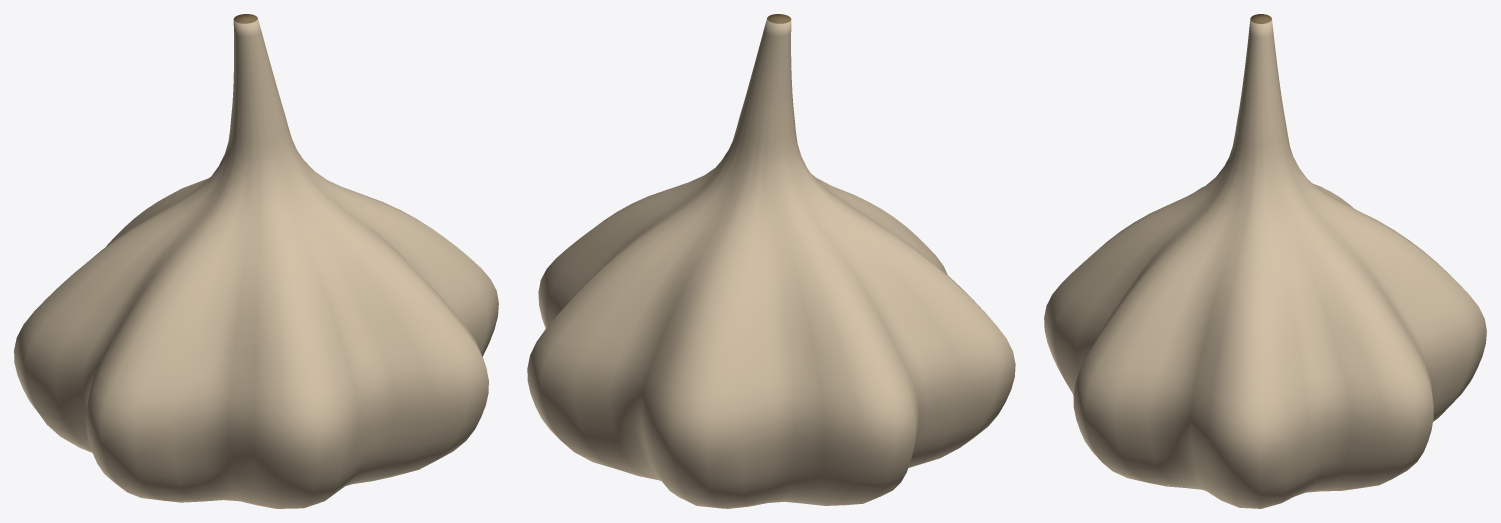
Rendered from A-NEW-20261027-GARLIC-001_LOD2_R1.fbx.
3 renders of one model, left to right at view 1: azimuth 30°, elevation 25°; view 2: azimuth 150°, elevation 25°; view 3: azimuth 270°, elevation 25°, orthographic. The views are drawn at different scales.
Visible parts, largest first — view 1: continuous original garlic clove lobes and dry neck; view 2: continuous original garlic clove lobes and dry neck; view 3: continuous original garlic clove lobes and dry neck.
Part boxes in pixels (x1,y1,x2,y2): continuous original garlic clove lobes and dry neck: (14,14,498,508); continuous original garlic clove lobes and dry neck: (527,14,1015,508); continuous original garlic clove lobes and dry neck: (1044,14,1486,508).
Bounding box in the file's own units: 7.67 × 7.86 × 7.11.
